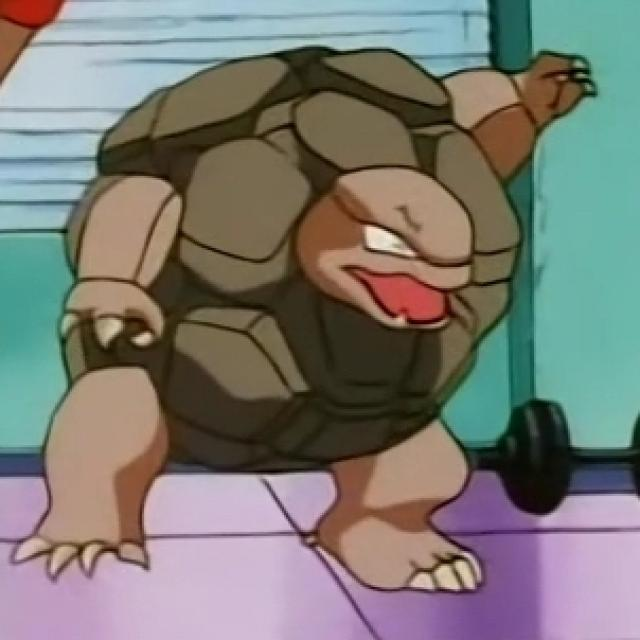Golem: (12, 38, 576, 589)
